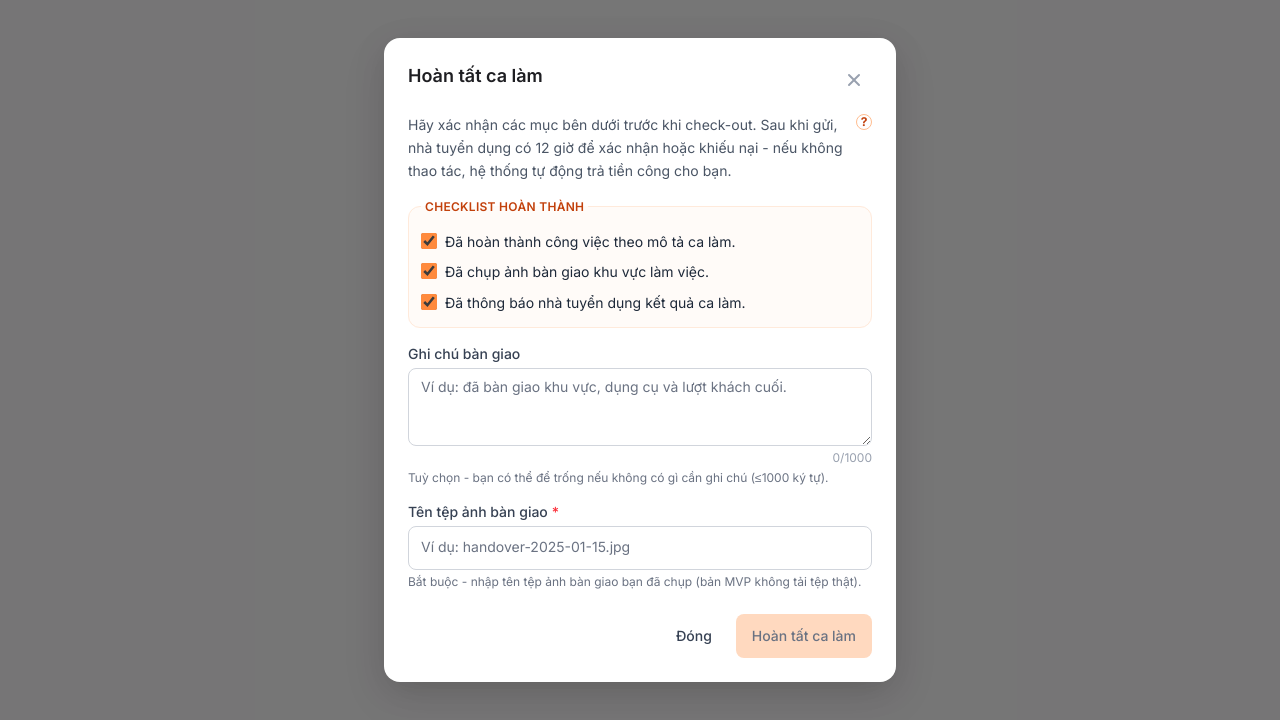
it: <CheckoutDialog/> — Phase 10C › disables submit when RequiredPhoto has no filename and enables once filled
expect the button "Hoàn tất ca làm" is disabled: met, box left=736, top=614, right=872, bottom=658
In the field labelled "Tên tệp ảnh bàn giao*": (640, 548) left=408, top=526, right=872, bottom=570, type "handover-007.jpg"
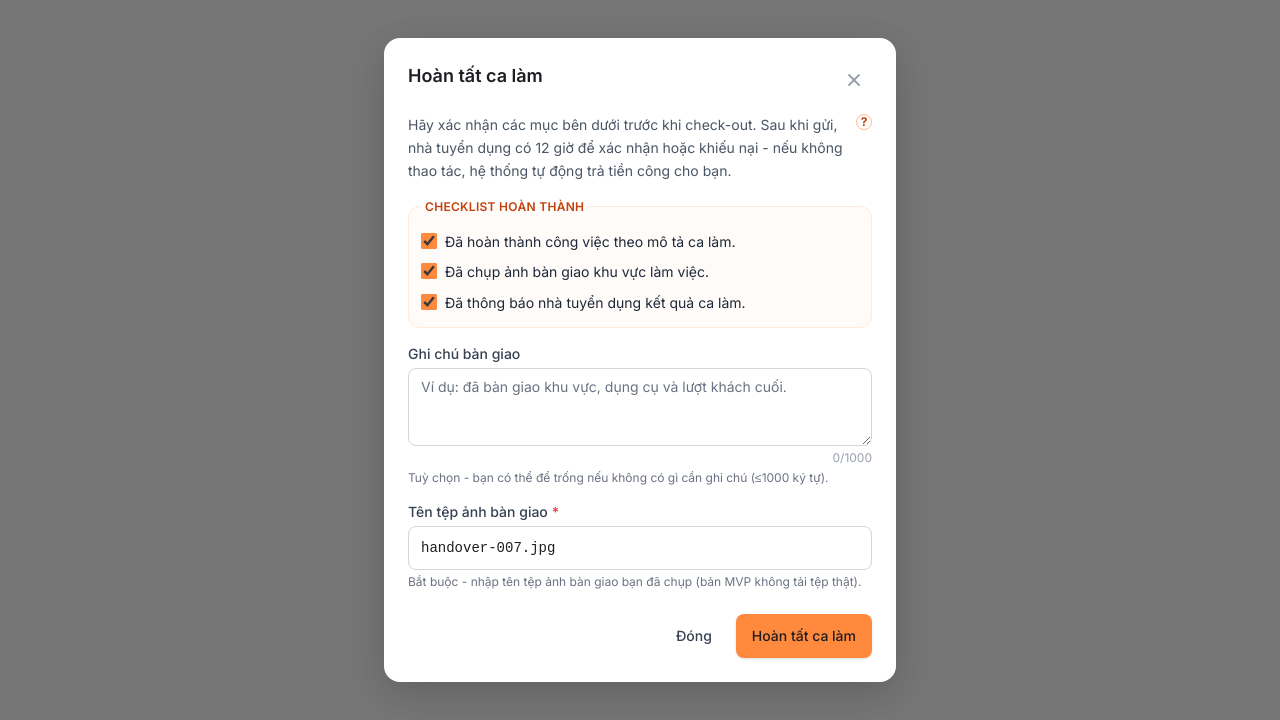
expect the button "Hoàn tất ca làm" is enabled: met, box left=736, top=614, right=872, bottom=658
